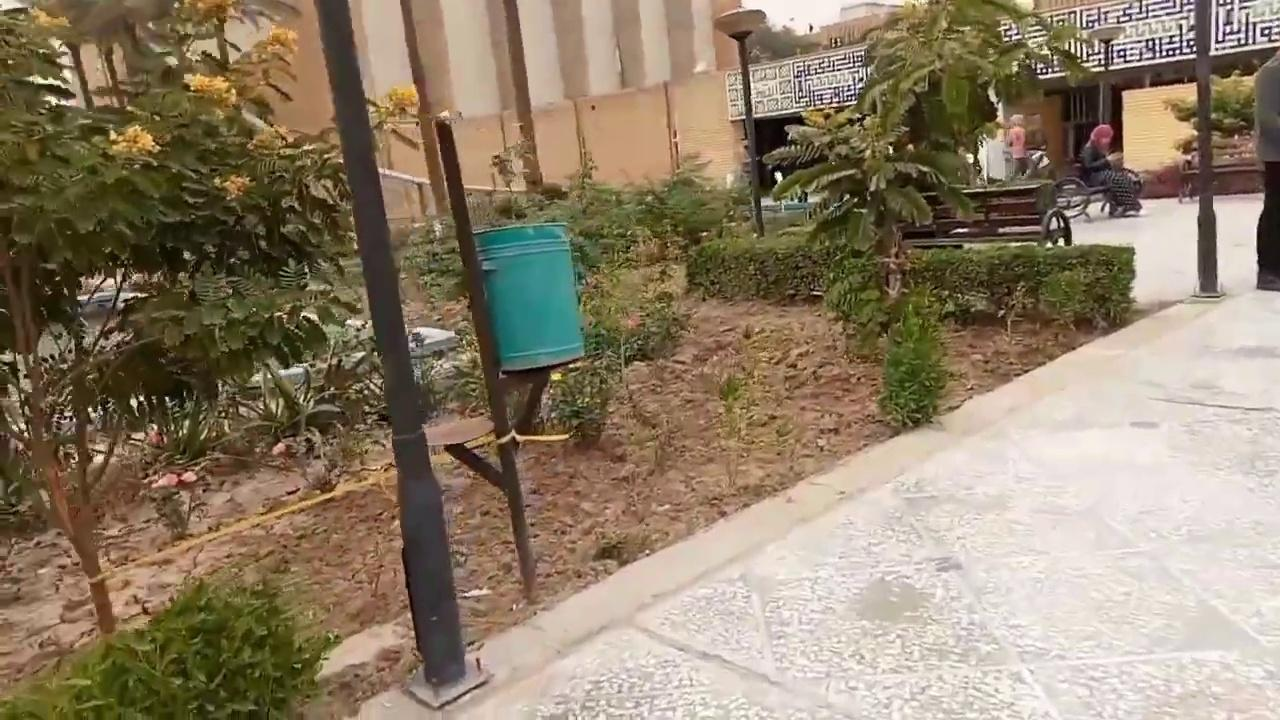person: (1252, 49, 1279, 291), (1080, 123, 1142, 216), (1005, 113, 1028, 176)
tree: (0, 0, 370, 637), (761, 0, 1098, 355), (309, 0, 472, 690), (1, 575, 342, 718), (1160, 66, 1256, 298)
